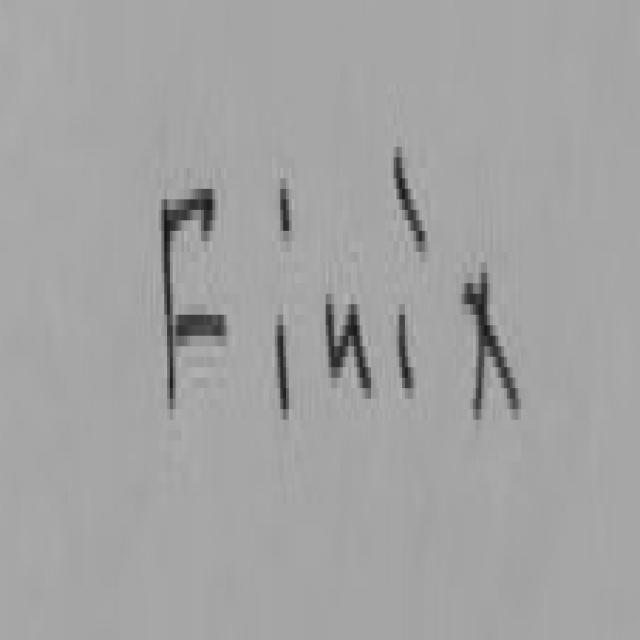F: (140, 116, 246, 460)
i: (386, 122, 436, 464), (266, 125, 300, 477)
n: (316, 262, 383, 462)
x: (452, 224, 522, 492)
